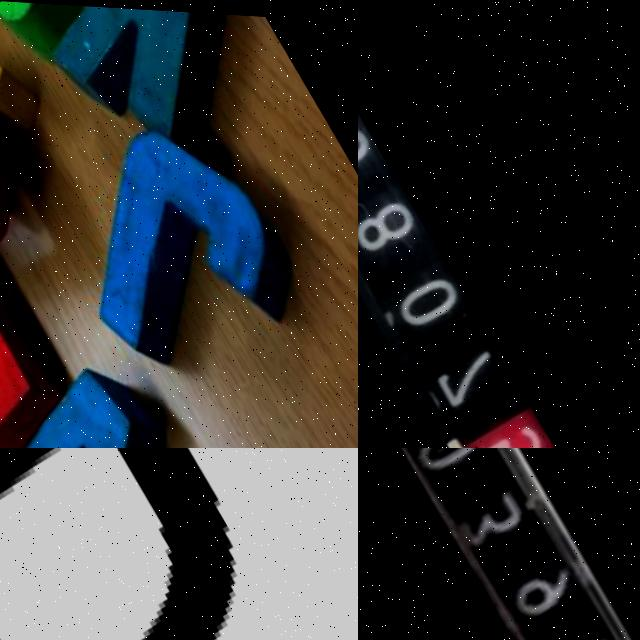0: (392, 262, 471, 334), (402, 448, 489, 480), (358, 110, 380, 183)
3: (450, 480, 531, 553)
5: (477, 408, 558, 448)
7: (431, 333, 514, 408)
8: (358, 184, 427, 258)
9: (503, 549, 584, 623)
V: (0, 326, 263, 448)
